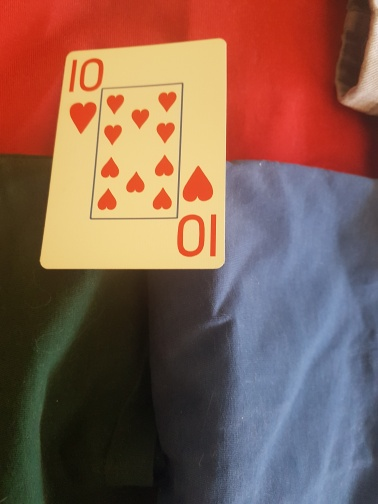ten: (41, 38, 224, 270)
